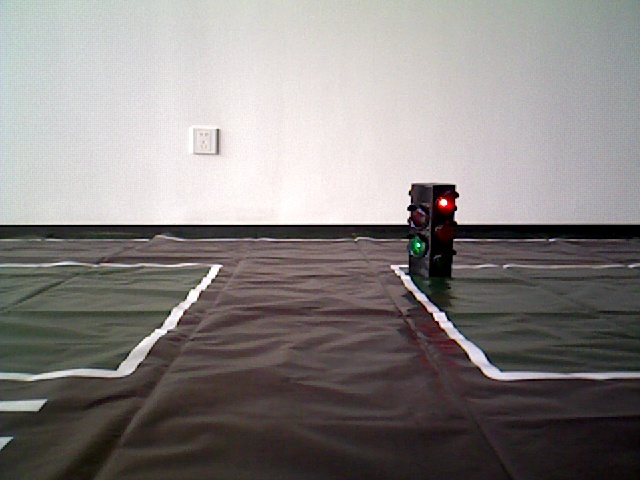red: (410, 183, 451, 287)
